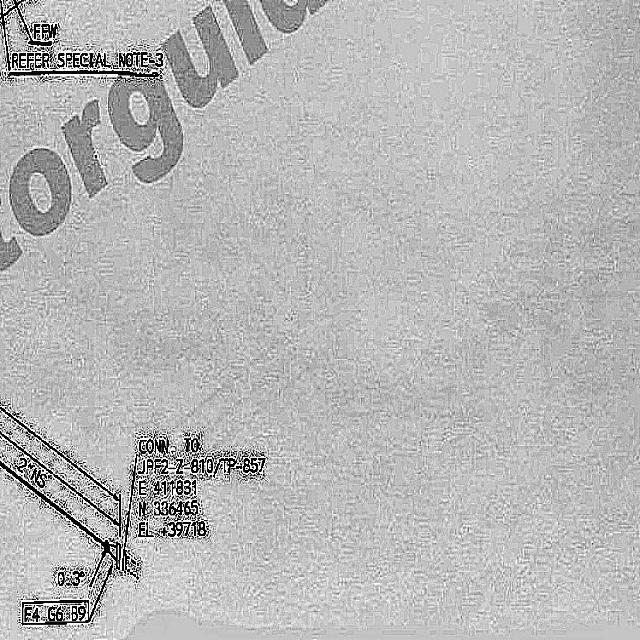Item number: (19, 596, 93, 625)
Measrement: (12, 453, 54, 494), (53, 566, 88, 590)
Pipeline: (0, 452, 105, 553)
Symbol: (100, 535, 142, 579)
other: (129, 424, 271, 546), (8, 50, 172, 71), (29, 20, 59, 39)
